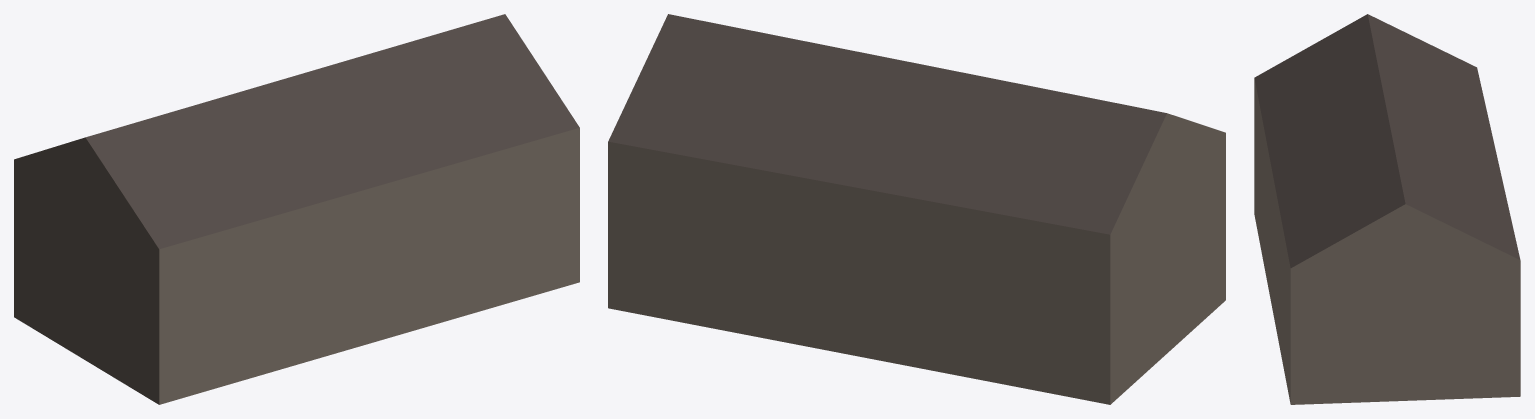
3 views of the same model, side by side, from view 1: azimuth 30°, elevation 25°; view 2: azimuth 150°, elevation 25°; view 3: azimuth 270°, elevation 25° (orthographic). The views are drawn at different scales.
Parts seen in each view (by area): view 1: HP-w734421239; view 2: HP-w734421239; view 3: HP-w734421239.
Boxes of the visible parts, left/top/right/bottom form: HP-w734421239: left=14, top=14, right=579, bottom=404; HP-w734421239: left=608, top=14, right=1225, bottom=404; HP-w734421239: left=1254, top=14, right=1520, bottom=404.
Size of the model in its own units: 18.69 by 8.65 by 10.6.
